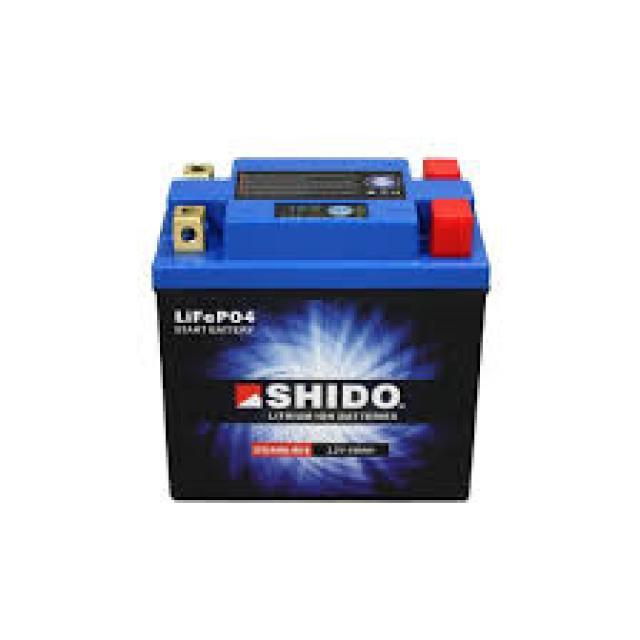battery: (144, 154, 493, 506)
